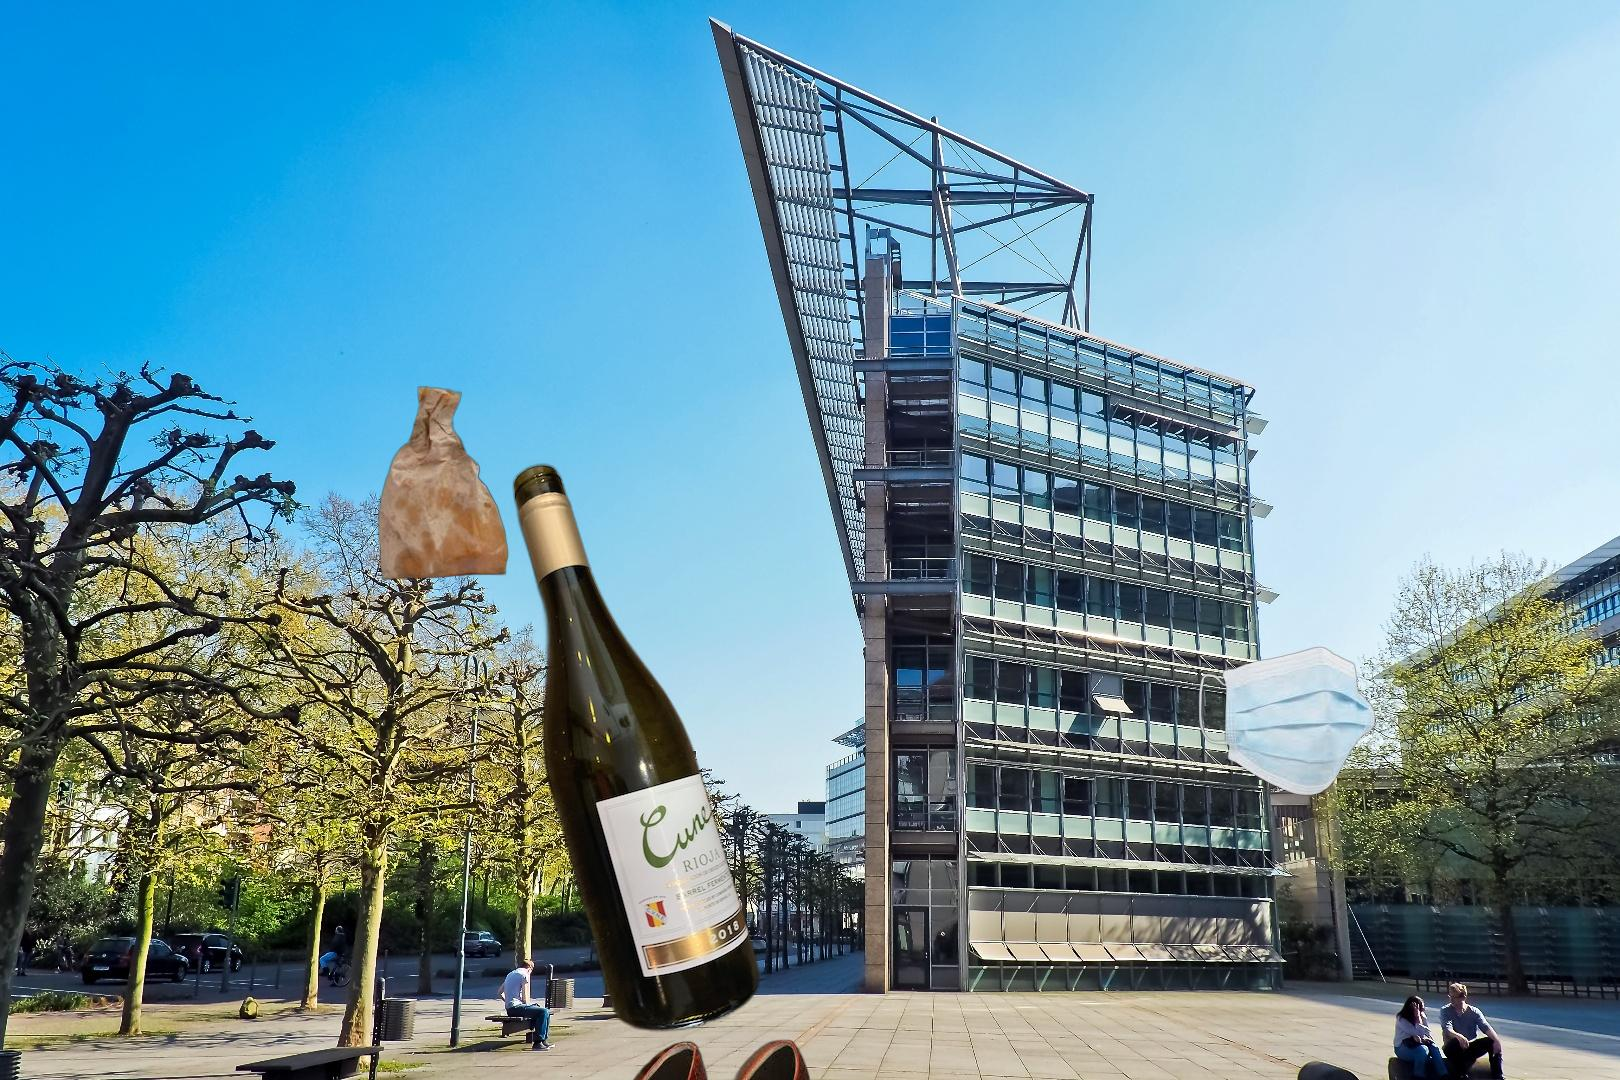glass: (509, 459, 763, 1036)
paper-bag: (375, 380, 511, 583)
shoes: (582, 1037, 813, 1080)
trash: (1196, 644, 1378, 798)
